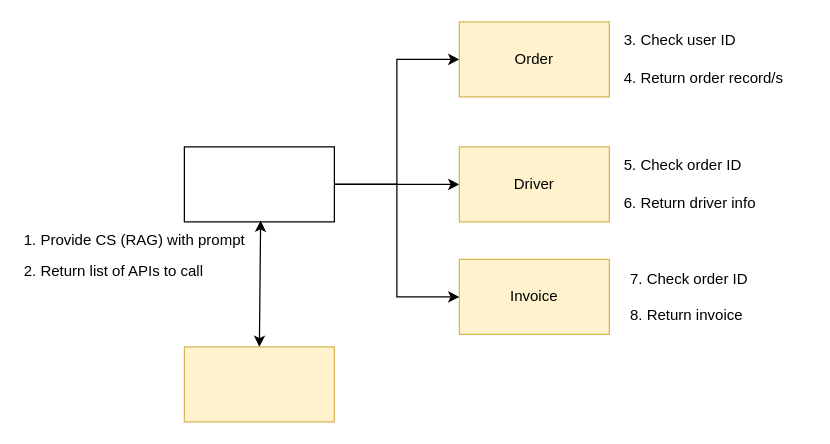
The diagram is 830 pixels wide and 444 high, and some of its shapes have lost their labels. The centre of each missing label's shape, as x and y in pixels:
"Customer Support (RAG)" goes at pixel 258 384.
"Order UI - Ask Chatbot about delivery status & info" goes at pixel 258 184.
